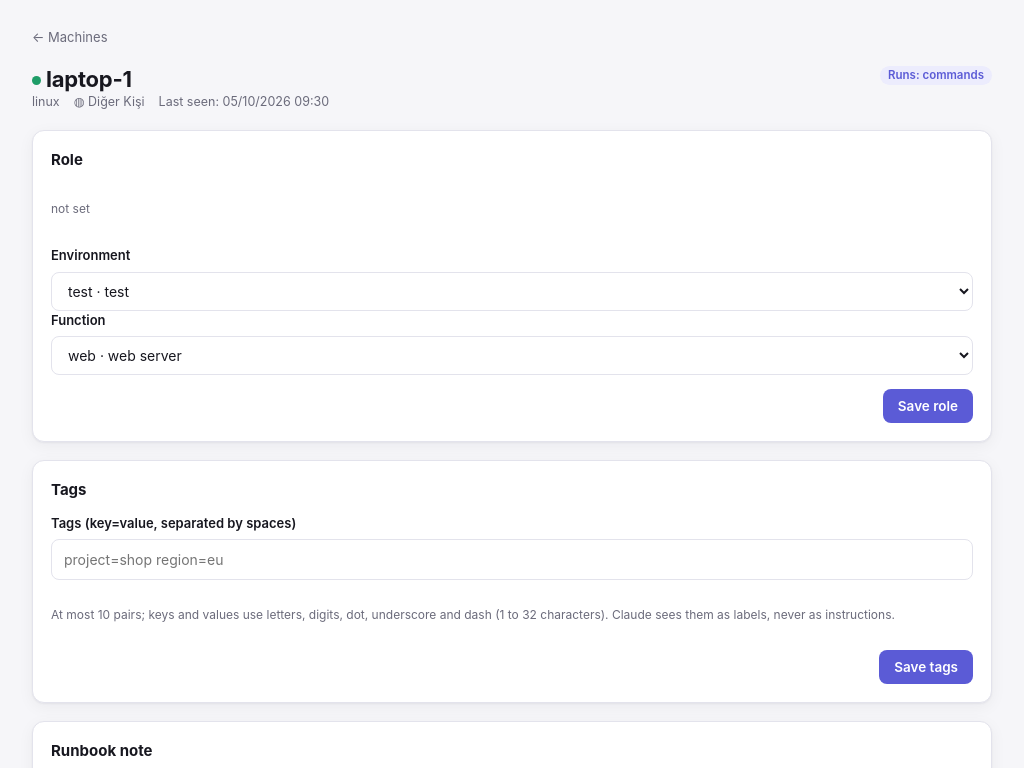
it: the role editor on the machine page › shows the API's text for a role the server refuses, and no success
The width and height of the screenshot is (1024, 768).
Click the button "Save role" at (928, 406), box [883,389,973,423]
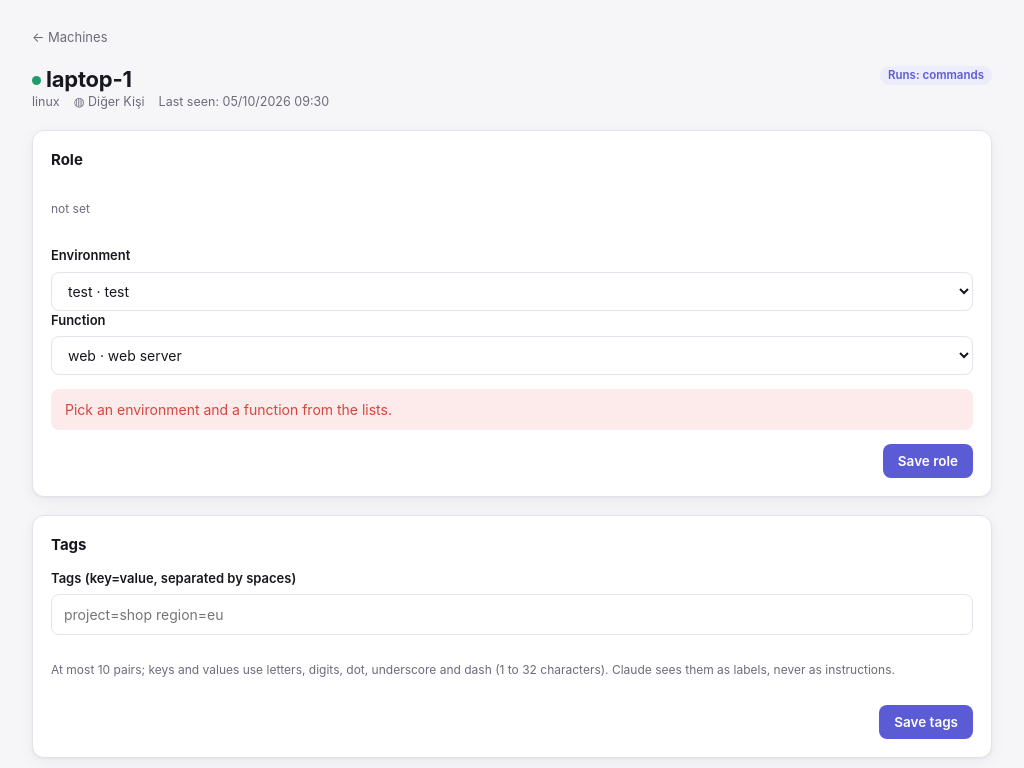
Check: the text "Pick an environment and a function from the lists." is shown, box [51,389,973,430]
